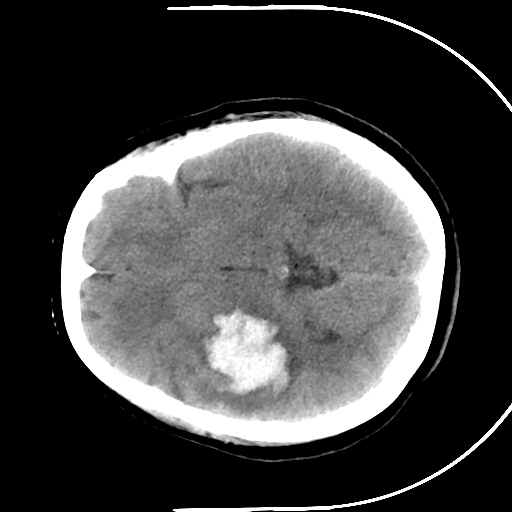a: (190, 289, 306, 420)
